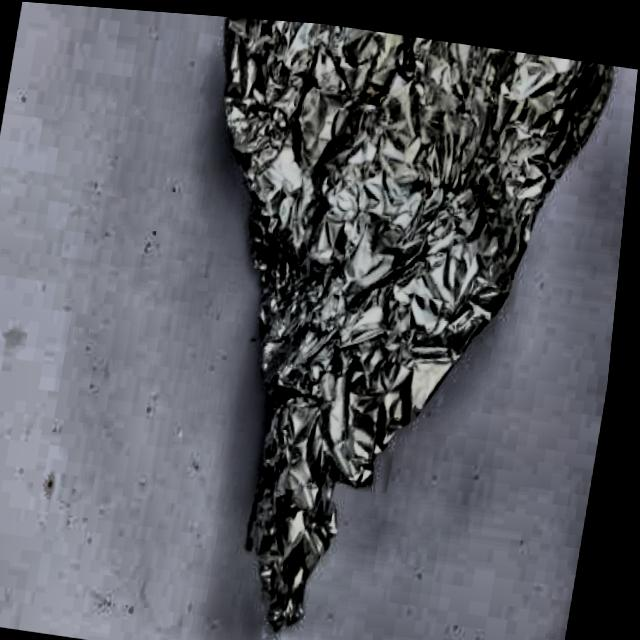Foil: (116, 10, 625, 640)
